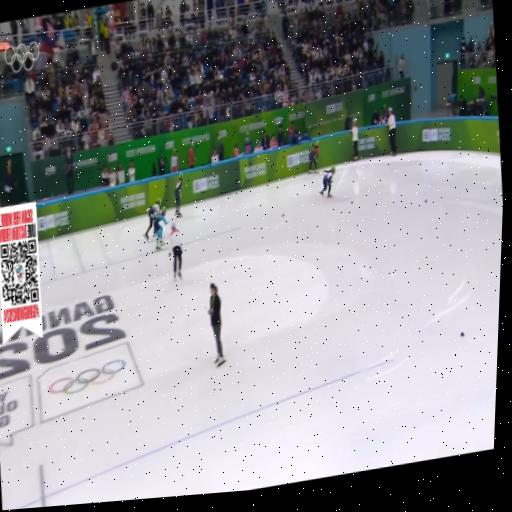Skater: (143, 198, 161, 240), (153, 207, 166, 250), (319, 166, 334, 198), (174, 174, 182, 217), (308, 142, 319, 173)
